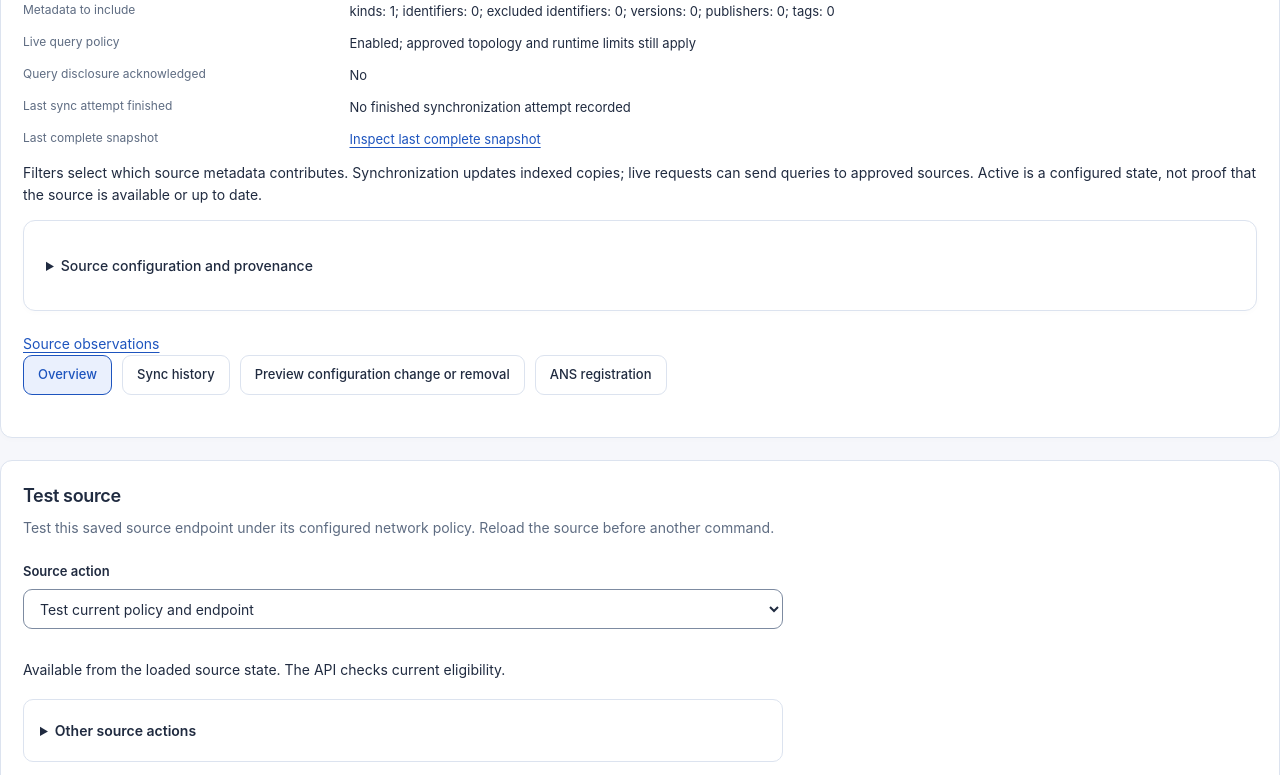
Test: opens the ANS tab from source detail without loading entries
(page scrolled)
Click the button "ANS registration".
click(601, 375)  # box [535,355,666,395]
(page scrolled)
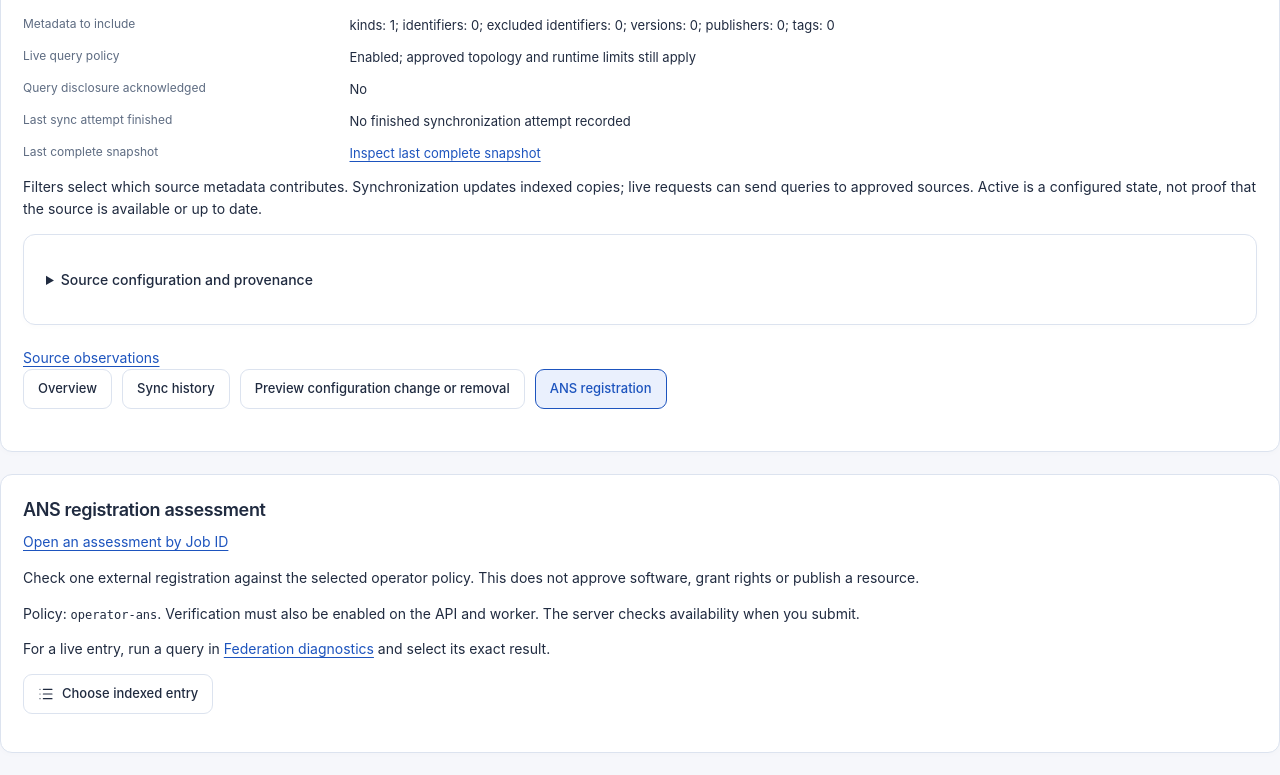
expect the heading "ANS registration assessment" is shown: met, box [23,499,266,520]
